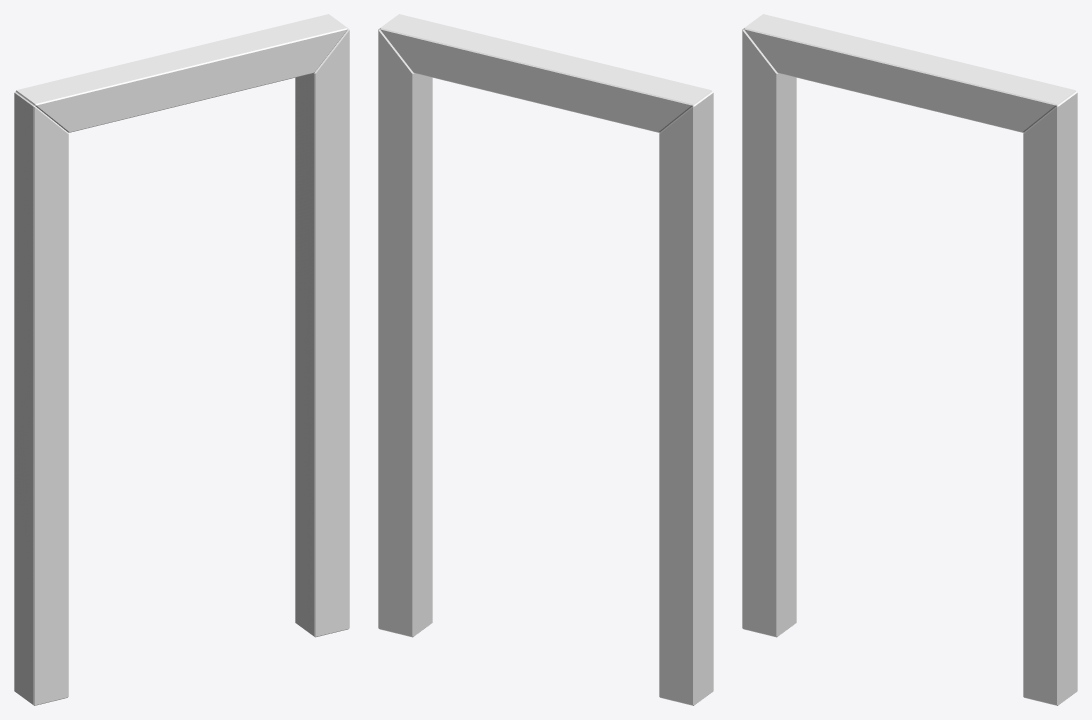
The model's file is Door_frame.fbx.
3 views of the same model, side by side, from view 1: azimuth 30°, elevation 25°; view 2: azimuth 150°, elevation 25°; view 3: azimuth 330°, elevation 25° (orthographic).
Parts seen in each view (by area): view 1: Door_frame; view 2: Door_frame; view 3: Door_frame.
Part boxes in pixels (bbox=[...]): Door_frame: bbox=[14, 14, 349, 705]; Door_frame: bbox=[378, 14, 713, 705]; Door_frame: bbox=[742, 14, 1077, 705].
Bounding box in the file's own units: 1.1 × 2 × 0.1214.
